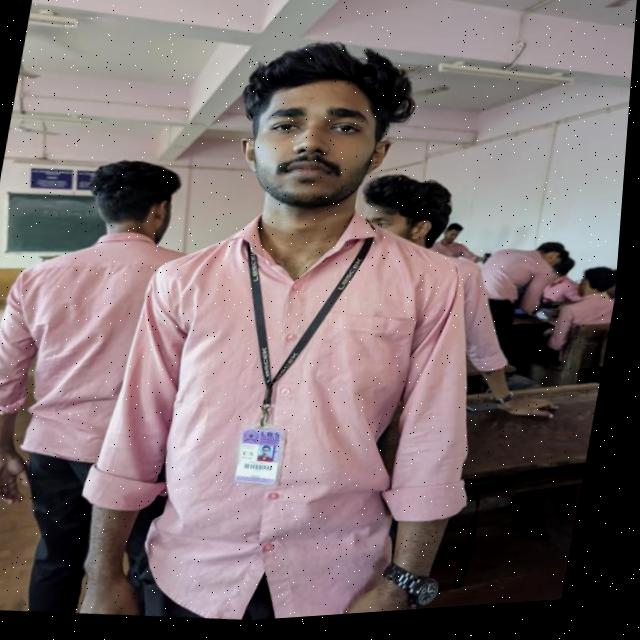id_card: (195, 225, 388, 509)
